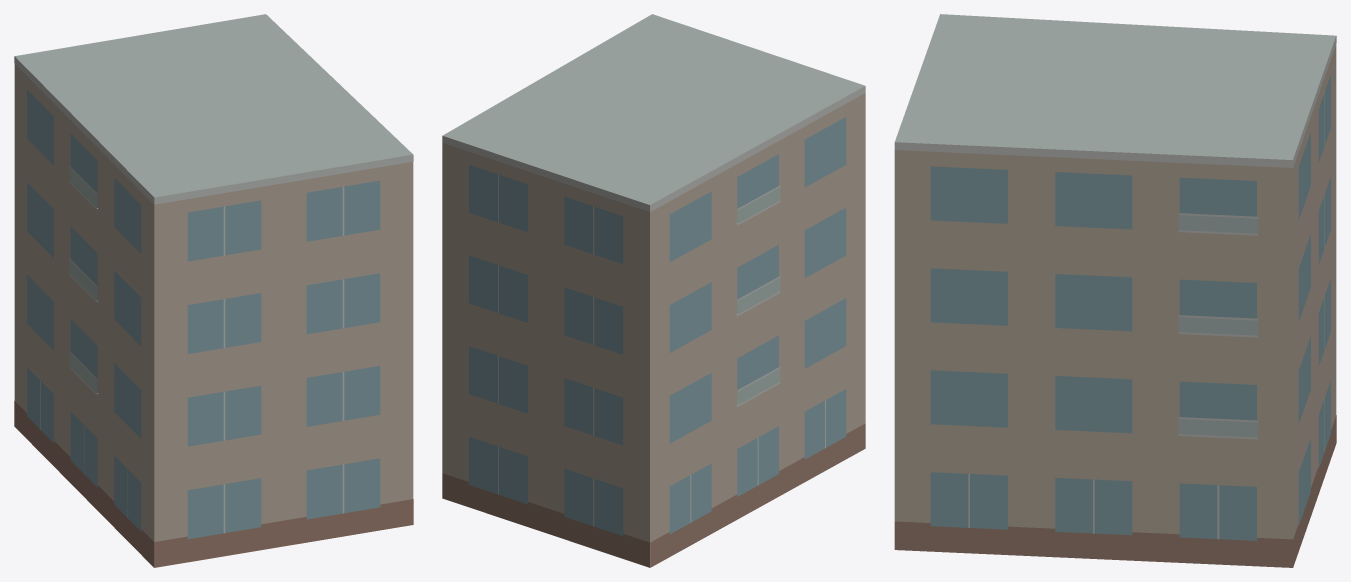
Rendered from survey-upis-32610352.glb.
3 views of the same model, side by side, from view 1: azimuth 30°, elevation 25°; view 2: azimuth 150°, elevation 25°; view 3: azimuth 270°, elevation 25° (orthographic). The views are drawn at different scales.
Visible parts, largest first — view 1: survey-upis-32610352.tmp; view 2: survey-upis-32610352.tmp; view 3: survey-upis-32610352.tmp.
Part boxes in pixels (bbox=[...]): survey-upis-32610352.tmp: bbox=[14, 14, 413, 567]; survey-upis-32610352.tmp: bbox=[442, 14, 865, 567]; survey-upis-32610352.tmp: bbox=[894, 14, 1336, 567].
Bounding box in the file's own units: 9.77 × 12.7 × 12.48.
